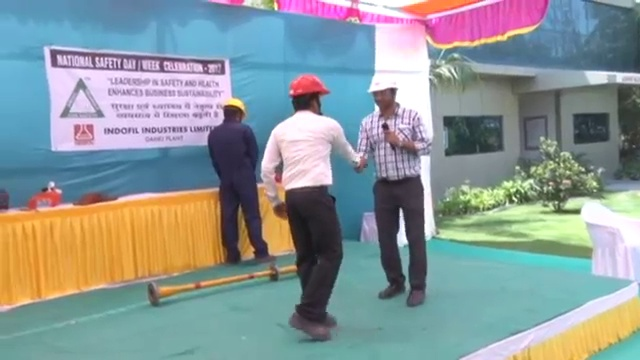helmet: (287, 73, 333, 96), (365, 71, 400, 94), (222, 96, 248, 118)
helmet_on: (260, 71, 360, 344), (358, 69, 434, 307), (206, 96, 278, 265), (287, 72, 334, 122), (366, 71, 402, 118), (220, 95, 249, 126)
